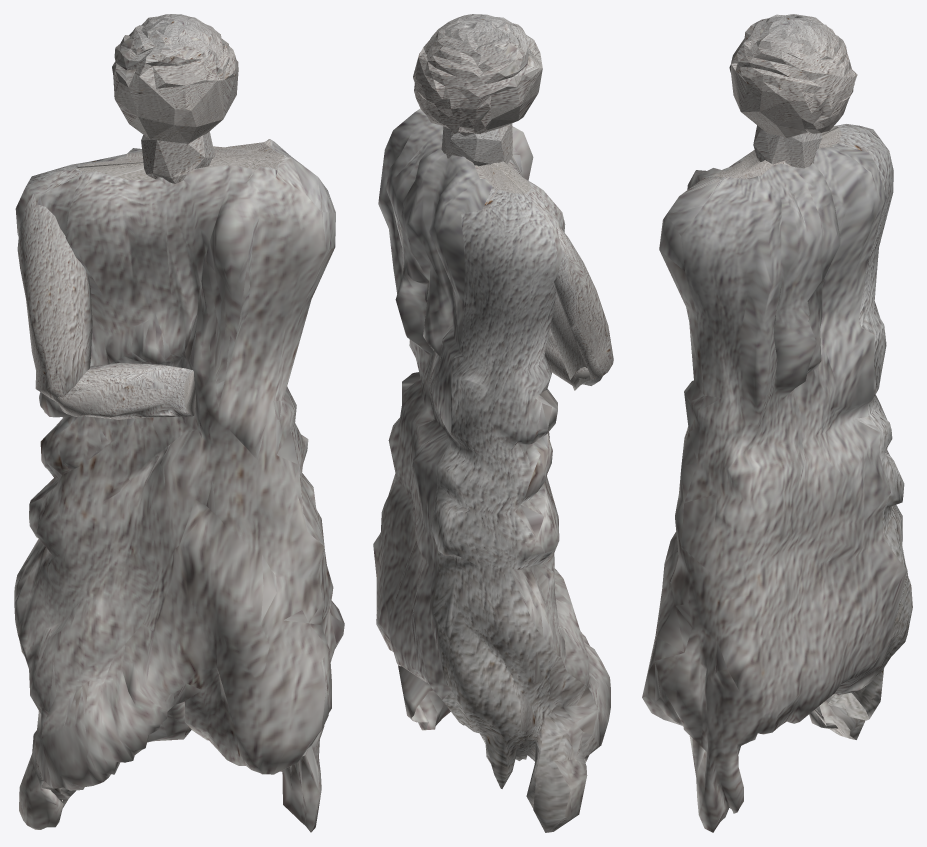
File: lahit5.obj
3 views of the same model, side by side, from view 1: azimuth 30°, elevation 25°; view 2: azimuth 150°, elevation 25°; view 3: azimuth 270°, elevation 25° (orthographic). The views are drawn at different scales.
Parts seen in each view (by area): view 1: Cylinder, Cylinder.001; view 2: Cylinder, Cylinder.001; view 3: Cylinder.
Part boxes in pixels (left/top/right/bottom): Cylinder: left=14, top=14, right=344, bottom=832; Cylinder.001: left=17, top=194, right=195, bottom=419; Cylinder: left=373, top=14, right=610, bottom=832; Cylinder.001: left=544, top=226, right=613, bottom=390; Cylinder: left=642, top=14, right=912, bottom=832.
Bounding box in the file's own units: 1.93 × 5.43 × 1.73.
